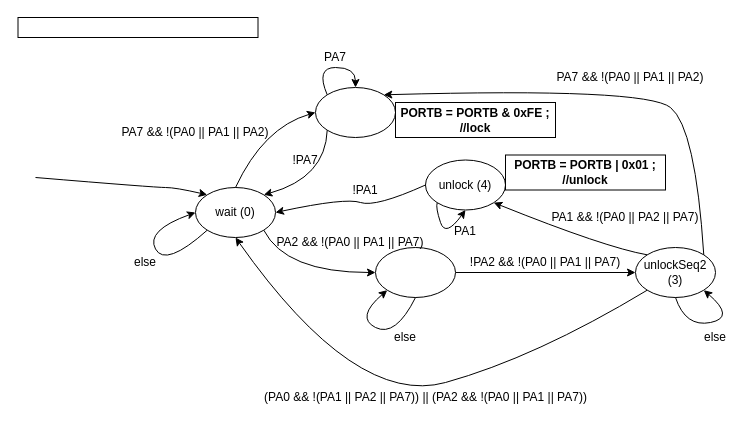
Some shapes in this 752 by 425 pixel diagram are drawn without their labels. The centre of each missing label's shape, as x and y in pixels:
"*always write the current state to PORTC" belongs at point (137, 27).
"lock (1)" belongs at point (355, 112).
"unlockSeq1 (2)" belongs at point (415, 272).
